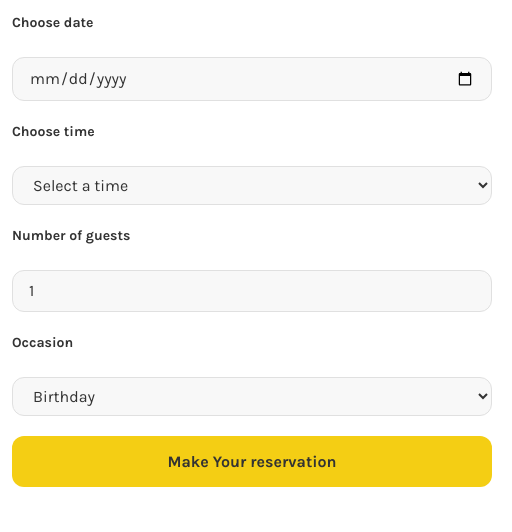
Test case: BookingForm — React validation (error messages) › guests error appears when value is out of range
Replace the text in the number field labelled "Number of guests" with "15" at (252, 291), box [12, 270, 492, 312]
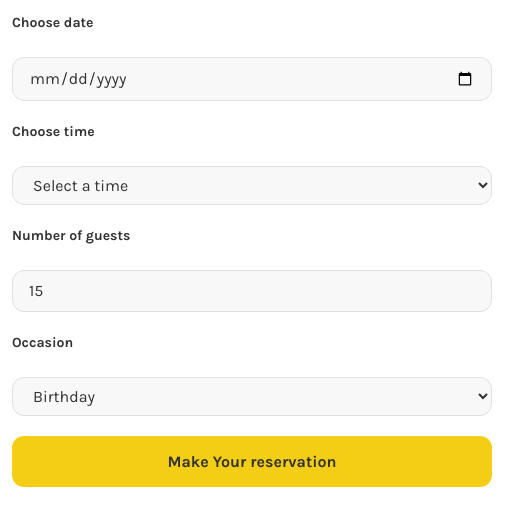
Leave the number field labelled "Number of guests", box [12, 270, 492, 312]
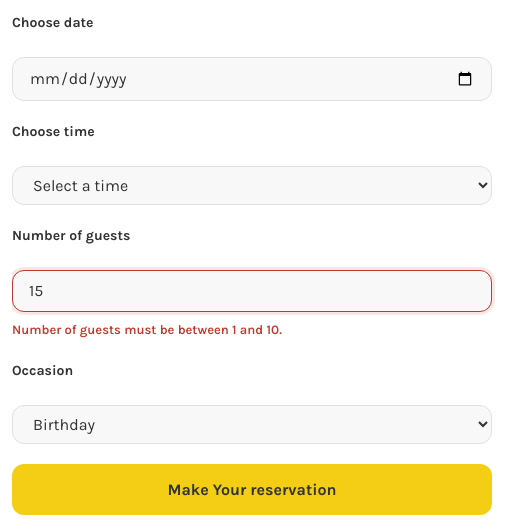
Now the message shows "between 1 and 10", box [12, 322, 282, 337]
